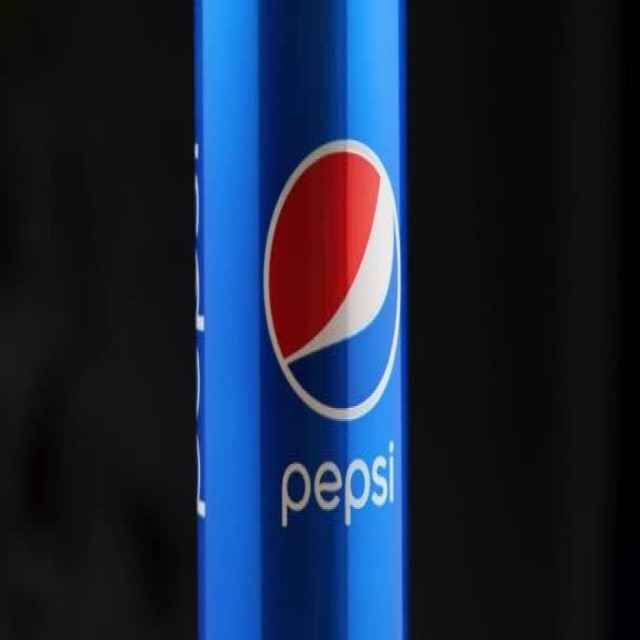pepsi: (264, 140, 409, 419)
